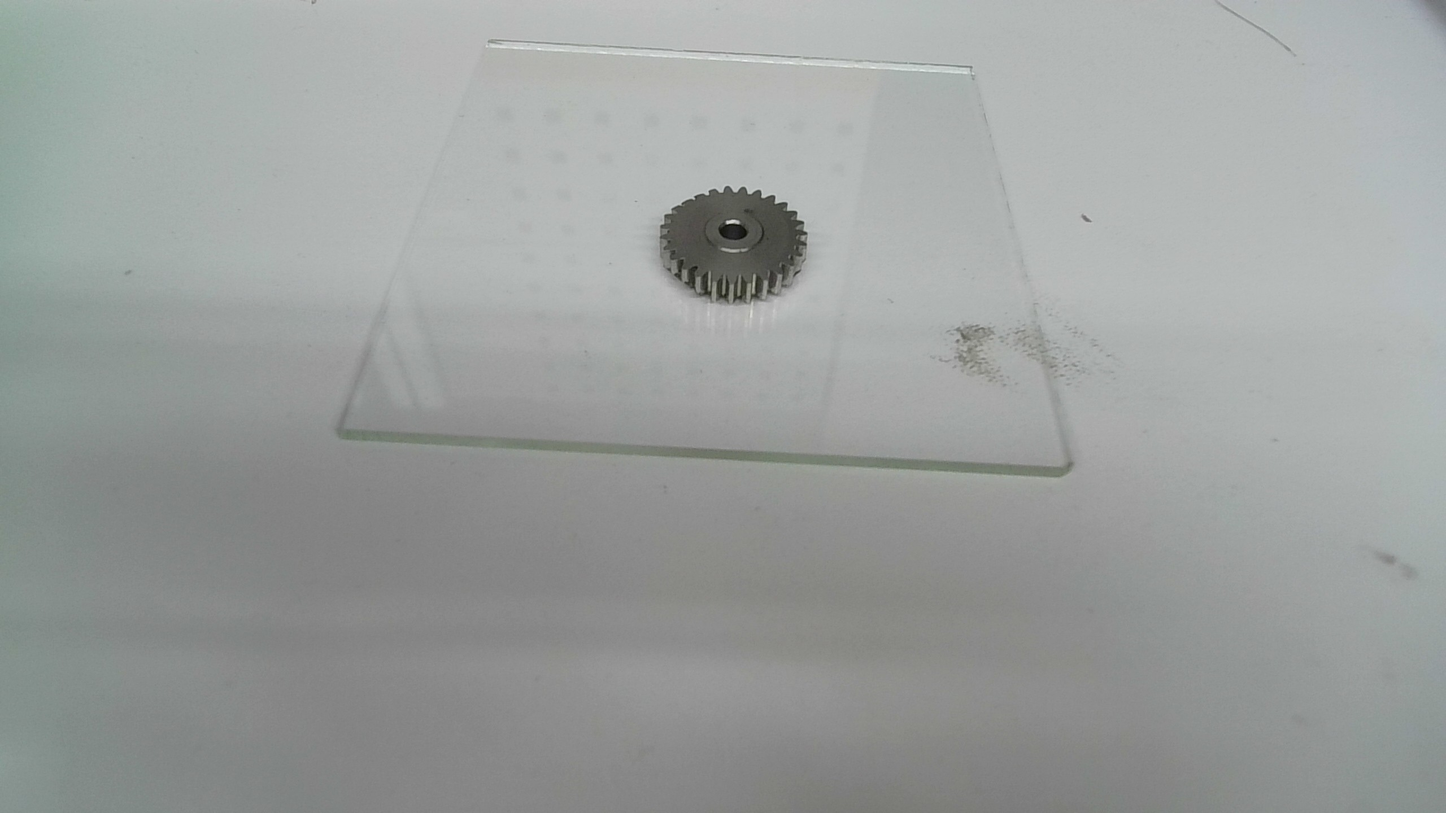gear: (656, 184, 810, 306)
